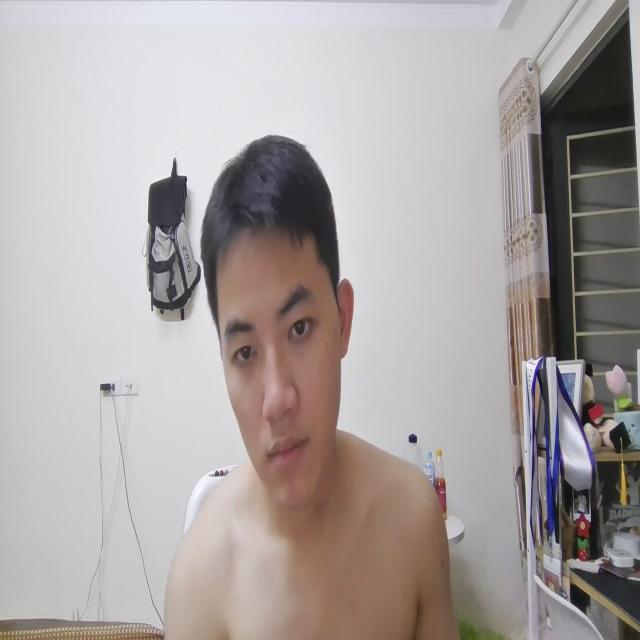student: (196, 133, 366, 536)
